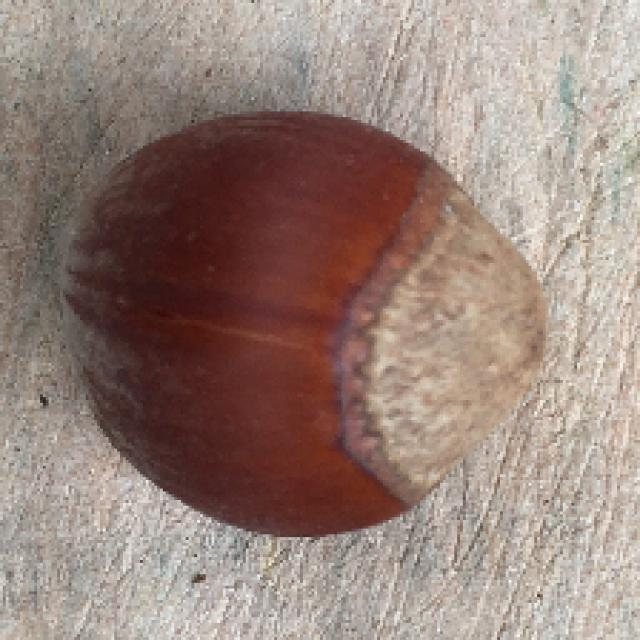qualityHazelnut: (54, 102, 550, 539)
